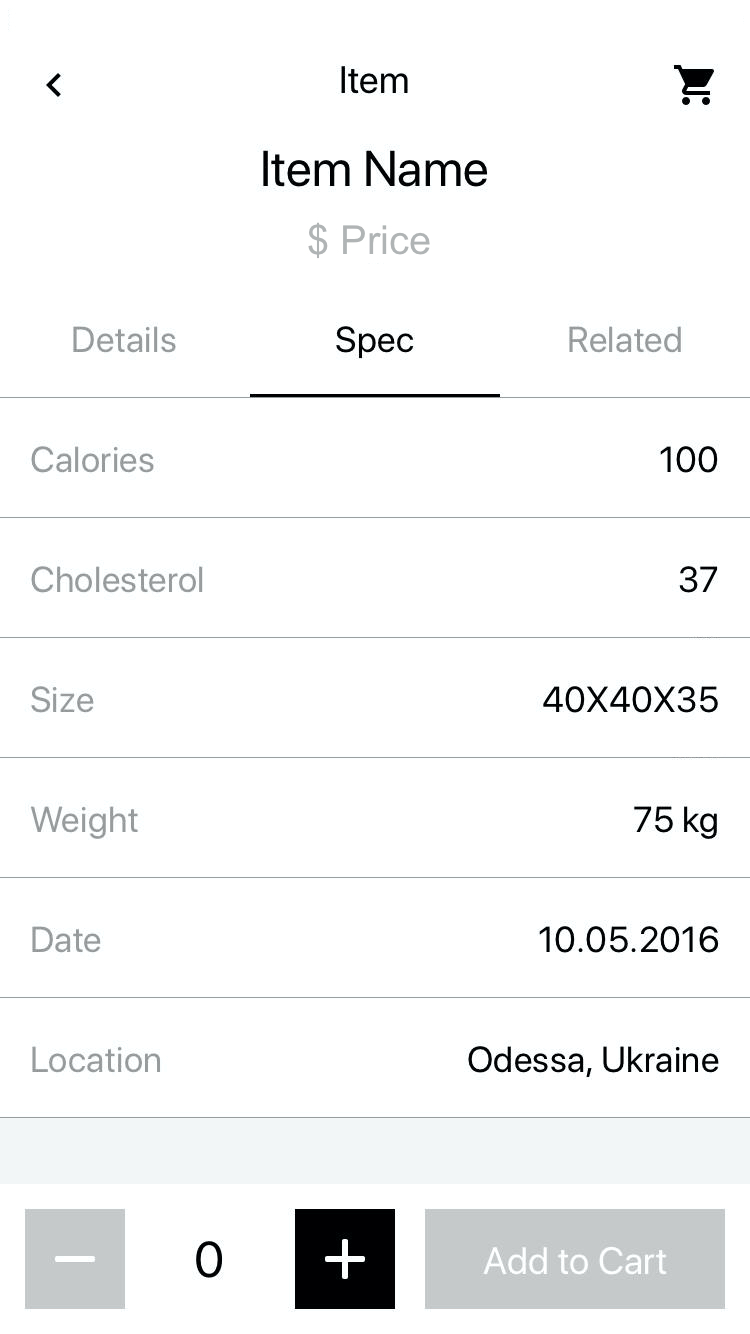Icon: (294, 1208, 396, 1310), (26, 1208, 127, 1310), (673, 65, 715, 108), (46, 73, 64, 99)
Text: (262, 151, 489, 189), (467, 1044, 720, 1078), (543, 684, 719, 714), (539, 925, 720, 954), (31, 565, 204, 595), (308, 223, 431, 260), (29, 805, 140, 840), (31, 1045, 162, 1074), (31, 445, 156, 473), (569, 326, 683, 354), (73, 324, 178, 354), (633, 805, 719, 841), (335, 325, 415, 360), (340, 66, 410, 95), (32, 925, 102, 954), (31, 685, 95, 714), (659, 445, 719, 475), (679, 565, 719, 594), (195, 1240, 224, 1279)
TextButton: (425, 1208, 726, 1310)
